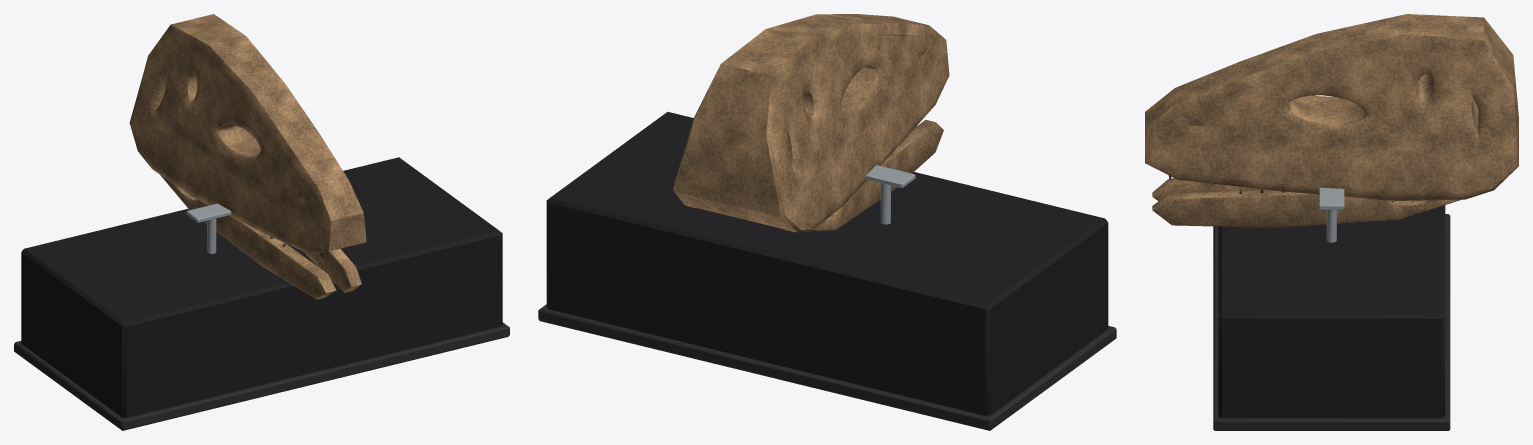
The model's file is theropod-skull-fossil.glb.
3 renders of one model, left to right at view 1: azimuth 30°, elevation 25°; view 2: azimuth 150°, elevation 25°; view 3: azimuth 270°, elevation 25°, orthographic. The views are drawn at different scales.
Parts seen in each view (by area): view 1: Theropod_Skull_Fossil; view 2: Theropod_Skull_Fossil; view 3: Theropod_Skull_Fossil.
Boxes of the visible parts, bbox=[...] form: Theropod_Skull_Fossil: bbox=[14, 14, 509, 430]; Theropod_Skull_Fossil: bbox=[538, 14, 1116, 430]; Theropod_Skull_Fossil: bbox=[1145, 14, 1518, 430].
Bounding box in the file's own units: 1.94 × 1.33 × 1.48.
Materials: 5 (1 with a texture image).
